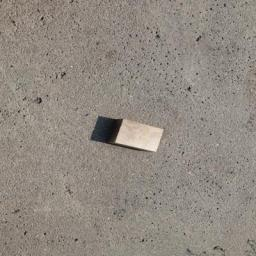FOD: (88, 112, 168, 159)
